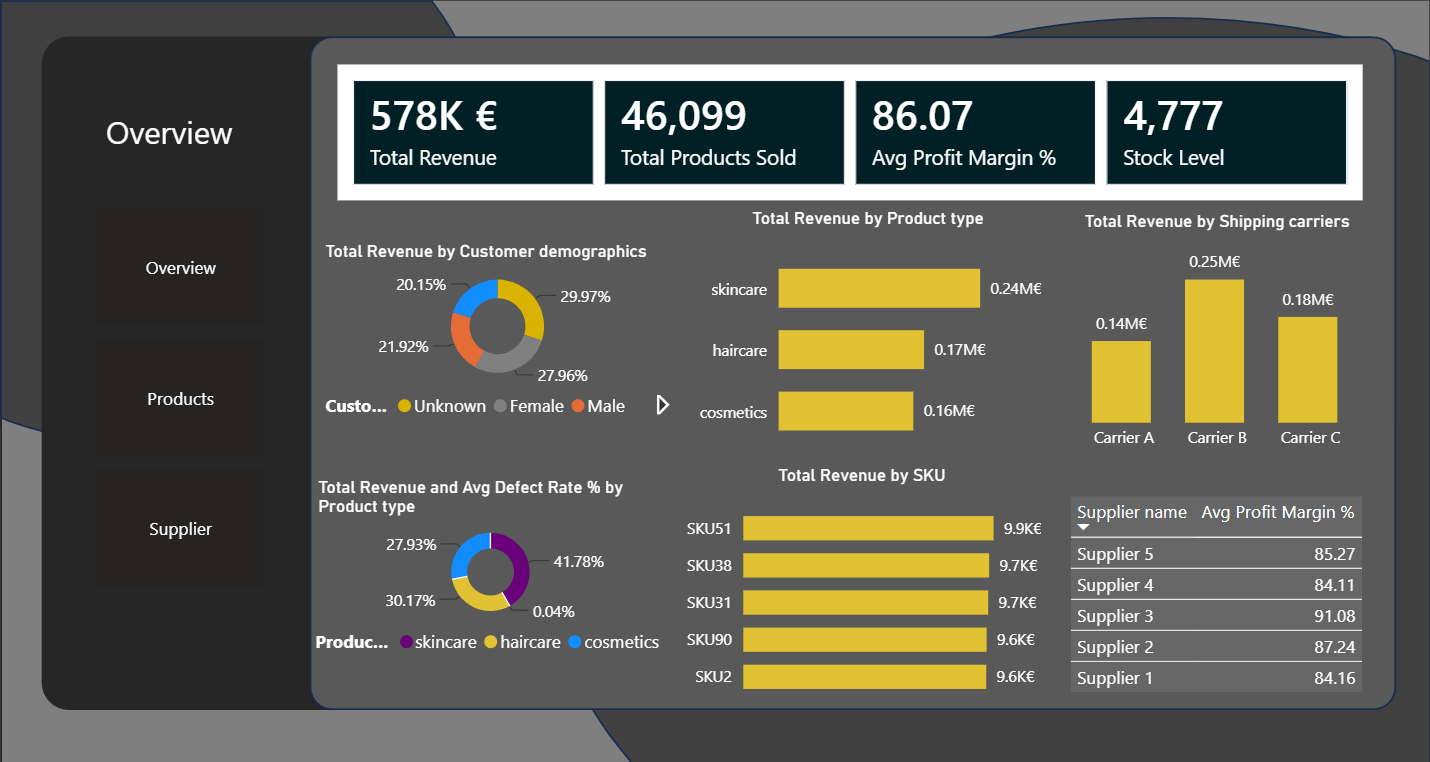

Layout of this report page (visuals, bound fields, positions):
{"tool":"powerbi","page":{"name":"Overview","canvas":[1280,720],"ordinal":0},"visuals":[{"type":"cardVisual","fields":{"Data":["_Measures.Total Revenue","_Measures.Total Products Sold","_Measures.Avg Profit Margin %","_Measures.Stock Level"]},"box":[342.7,108.9,803.3,115.9],"z":0},{"type":"donutChart","fields":{"Y":["_Measures.Total Revenue"],"Category":["supply_chain_data.Customer demographics"]},"box":[333.7,250.3,275.8,146],"z":1000},{"type":"donutChart","fields":{"Y":["_Measures.Total Revenue","_Measures.Avg Defect Rate %"],"Category":["supply_chain_data.Product type"]},"box":[328.3,432.6,275.8,146],"z":2000},{"type":"clusteredBarChart","fields":{"Y":["_Measures.Total Revenue"],"Category":["supply_chain_data.Product type"]},"box":[618.6,224.5,278.3,198.5],"z":3000},{"type":"clusteredBarChart","fields":{"Y":["_Measures.Total Revenue"],"Category":["supply_chain_data.SKU"]},"box":[609.6,423,287.3,190.6],"z":4000},{"type":"columnChart","fields":{"Y":["_Measures.Total Revenue"],"Category":["supply_chain_data.Shipping carriers"]},"box":[896.9,227.5,261.4,193.5],"z":5000},{"type":"tableEx","fields":{"Values":["supply_chain_data.Supplier name","_Measures.Avg Profit Margin %"]},"box":[908.3,442.5,249.7,162.6],"z":6000},{"type":"textbox","box":[131,122,190.5,57.4],"z":7000},{"type":"textbox","box":[131,144.1,190.5,45.4],"z":8000},{"type":"pageNavigator","box":[161.3,224.8,131,293.3],"z":9000}]}

Visuals, with their boxes on the page's 1280x720 design canvas (x1, y1, x2, y2). These are canvas units, not pixel positions in the 1430x762 screenshot, which may show the page scaled, cropped or inside an application window:
cardVisual - _Measures.Total Revenue x _Measures.Total Products Sold: {"x1": 343, "y1": 109, "x2": 1146, "y2": 225}
donutChart - _Measures.Total Revenue x supply_chain_data.Customer demographics: {"x1": 334, "y1": 250, "x2": 610, "y2": 396}
donutChart - _Measures.Total Revenue x _Measures.Avg Defect Rate %: {"x1": 328, "y1": 433, "x2": 604, "y2": 579}
clusteredBarChart - _Measures.Total Revenue x supply_chain_data.Product type: {"x1": 619, "y1": 224, "x2": 897, "y2": 423}
clusteredBarChart - _Measures.Total Revenue x supply_chain_data.SKU: {"x1": 610, "y1": 423, "x2": 897, "y2": 614}
columnChart - _Measures.Total Revenue x supply_chain_data.Shipping carriers: {"x1": 897, "y1": 228, "x2": 1158, "y2": 421}
tableEx - supply_chain_data.Supplier name x _Measures.Avg Profit Margin %: {"x1": 908, "y1": 442, "x2": 1158, "y2": 605}
textbox: {"x1": 131, "y1": 122, "x2": 322, "y2": 179}
textbox: {"x1": 131, "y1": 144, "x2": 322, "y2": 190}
pageNavigator: {"x1": 161, "y1": 225, "x2": 292, "y2": 518}
